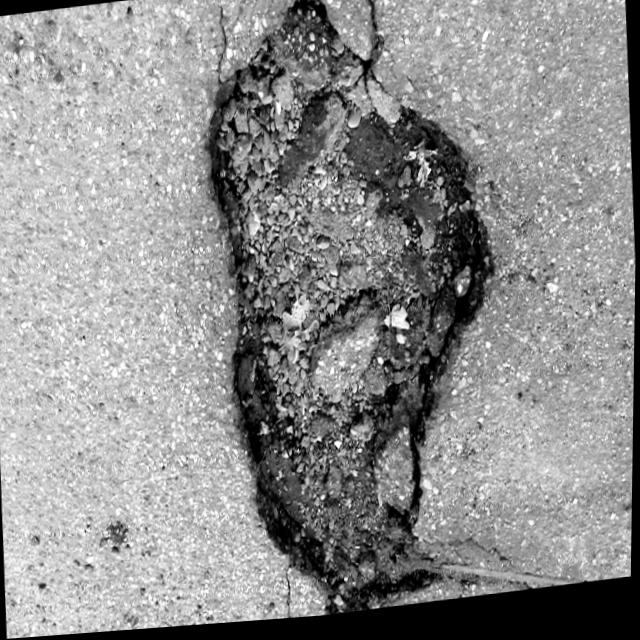pathole: (205, 0, 520, 626)
